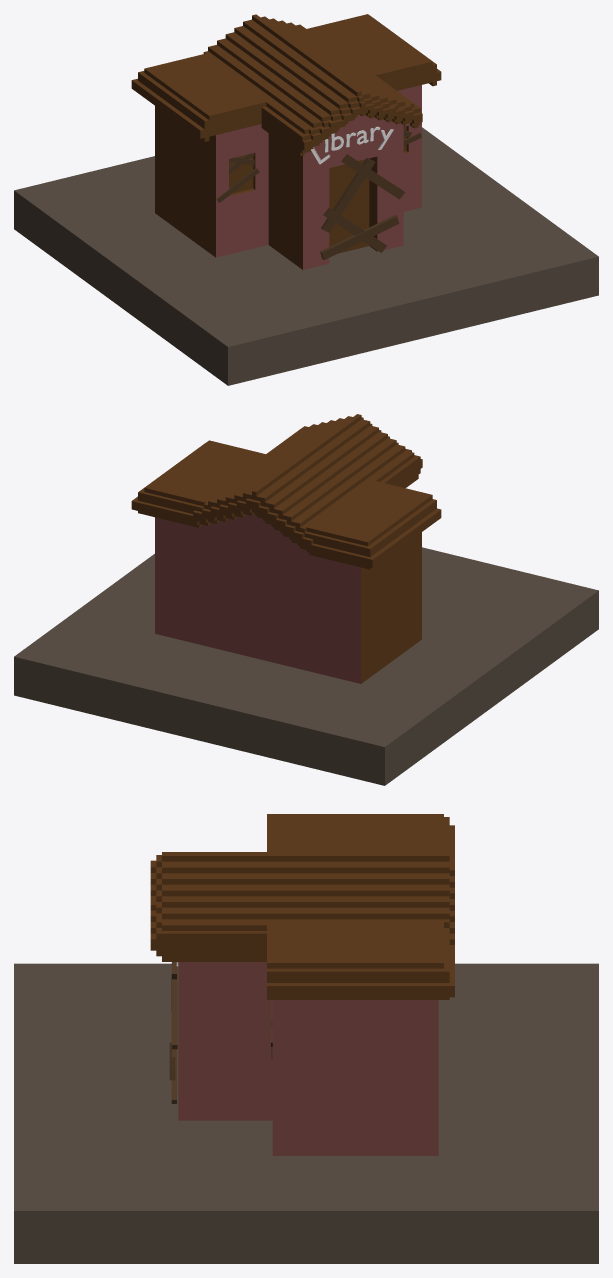
The model's file is library-0.glb.
The picture shows the model from 3 angles, top to bottom: view 1: azimuth 30°, elevation 25°; view 2: azimuth 150°, elevation 25°; view 3: azimuth 270°, elevation 25°; orthographic projection. The views are drawn at different scales.
Visible parts, largest first — view 1: Library::Old; view 2: Library::Old; view 3: Library::Old.
Boxes of the visible parts, x1,y1,x2,y2 form: Library::Old: (14, 14, 598, 385); Library::Old: (14, 414, 598, 785); Library::Old: (14, 814, 598, 1263).
Size of the model in its own units: 1 by 0.5387 by 1.
